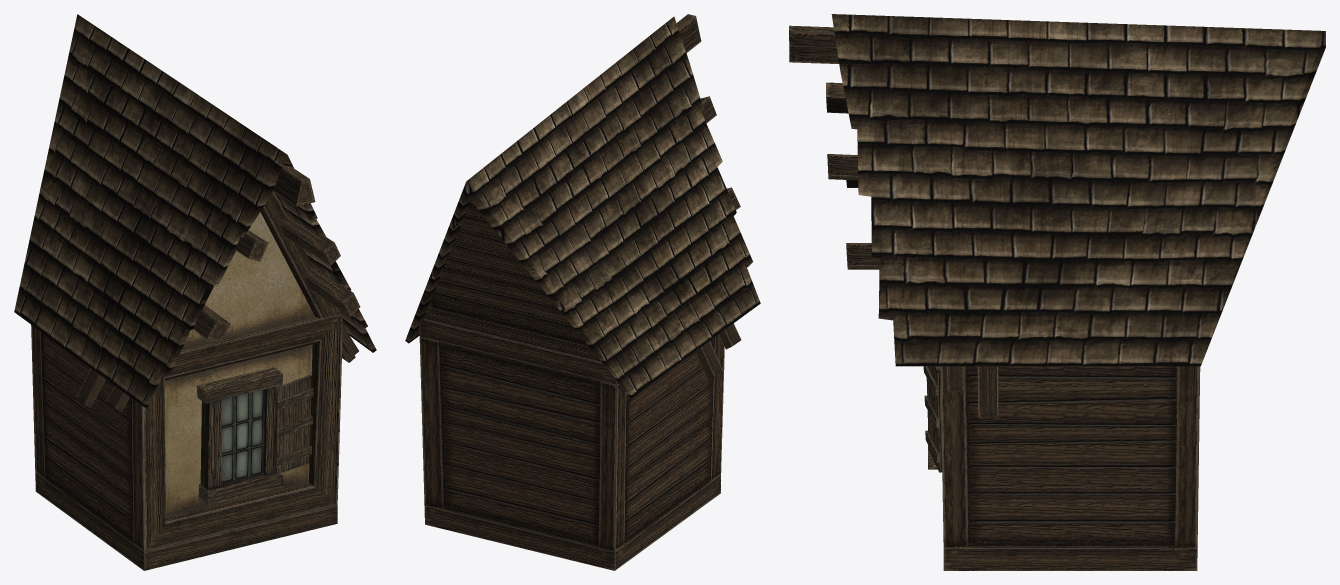
File: Window_a06.fbx
The picture shows the model from 3 angles, left to right: view 1: azimuth 30°, elevation 25°; view 2: azimuth 150°, elevation 25°; view 3: azimuth 270°, elevation 25°; orthographic projection. The views are drawn at different scales.
Visible parts, largest first — view 1: Window_a06; view 2: Window_a06; view 3: Window_a06.
Boxes of the visible parts, box(x1,y1,x2,y2) form: Window_a06: box(14, 14, 376, 570); Window_a06: box(405, 14, 760, 570); Window_a06: box(789, 14, 1325, 570).
Size of the model in its own units: 3.94 by 6.25 by 6.07.
